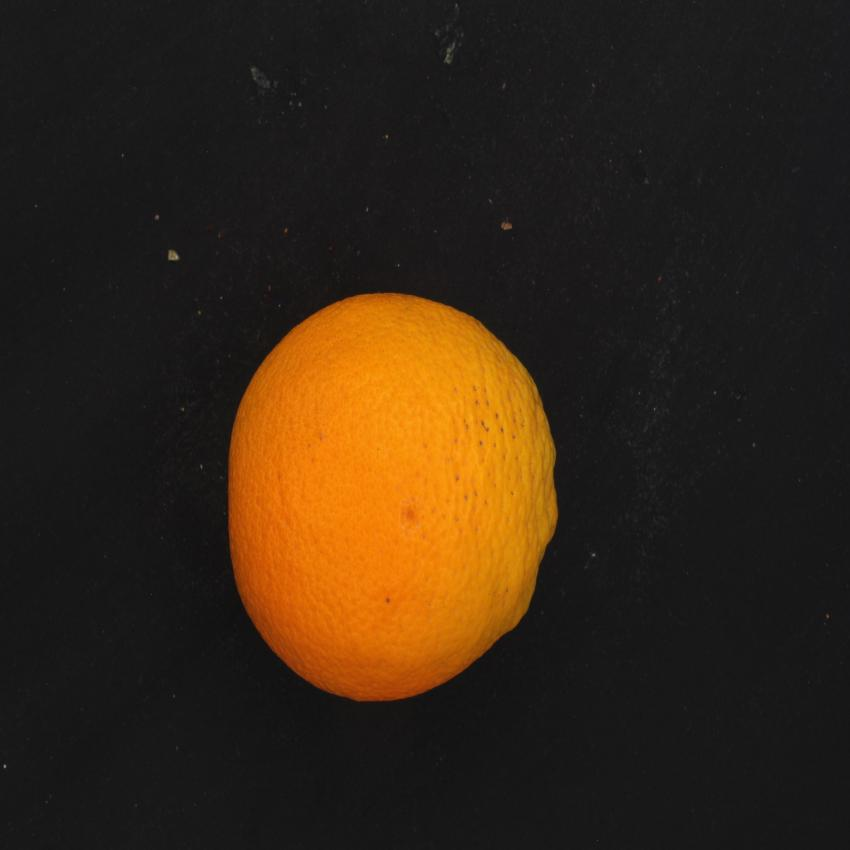Buen estado: (221, 278, 568, 716)
